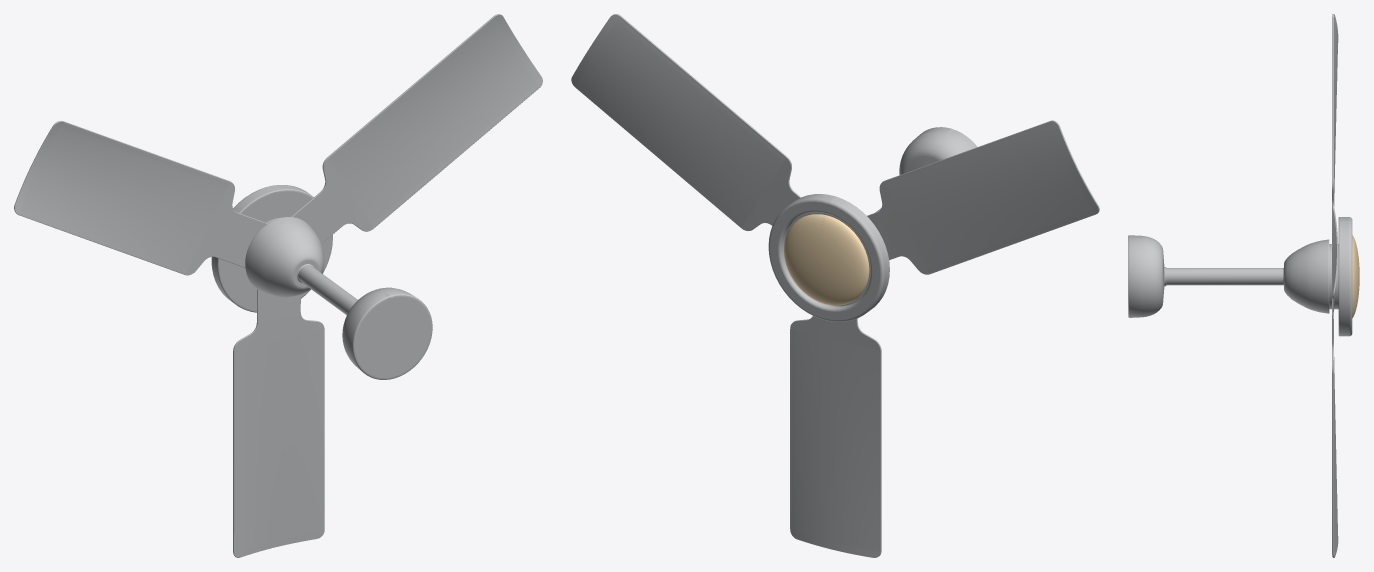
The model's file is fan.obj.
The picture shows the model from 3 angles, left to right: view 1: azimuth 30°, elevation 25°; view 2: azimuth 150°, elevation 25°; view 3: azimuth 270°, elevation 25°; orthographic projection. The views are drawn at different scales.
Visible parts, largest first — view 1: Object_3, Object_4, Object_2, Object_0; view 2: Object_4, Object_3, Object_2, Object_0, Object_1; view 3: Object_0, Object_2, Object_3, Object_4, Object_1.
Part boxes in pixels (x1,y1,x2,y2): Object_3: (14, 121, 267, 275); Object_4: (291, 14, 542, 243); Object_2: (233, 289, 324, 557); Object_0: (211, 185, 432, 379); Object_4: (571, 14, 800, 230); Object_3: (867, 120, 1099, 274); Object_2: (790, 316, 881, 557); Object_0: (768, 127, 977, 321); Object_1: (783, 214, 869, 305); Object_0: (1128, 217, 1352, 336); Object_2: (1332, 316, 1338, 557); Object_3: (1332, 14, 1338, 243); Object_4: (1332, 205, 1338, 315); Object_1: (1352, 235, 1359, 317).
Bounding box in the file's own units: 58.08 × 50.51 × 24.63.
